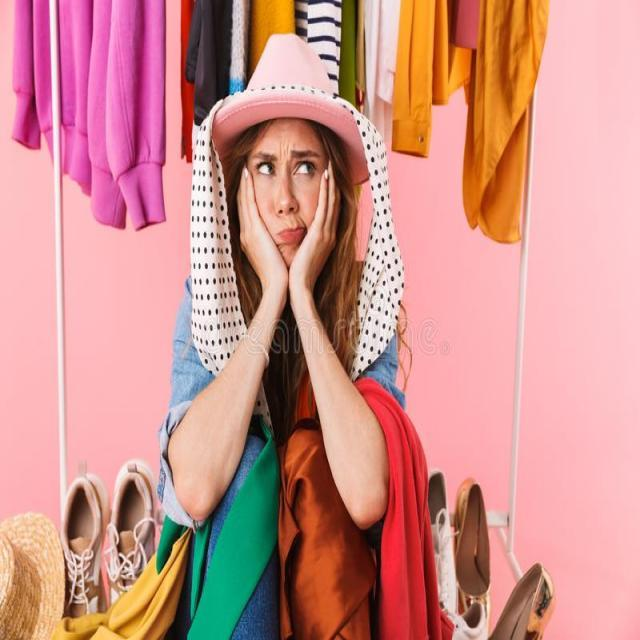clothes: (71, 34, 398, 122)
